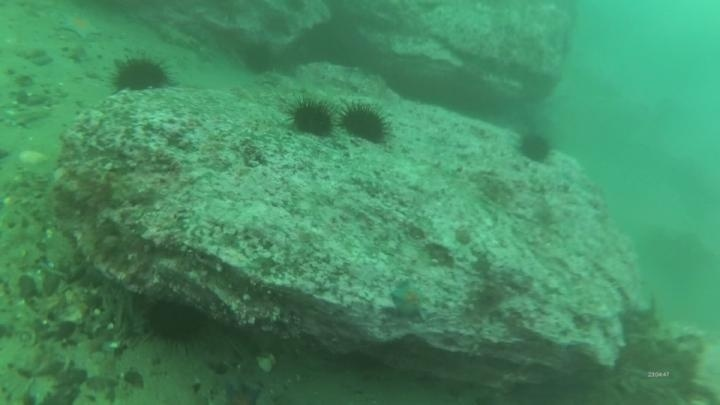echinus: (142, 293, 210, 349), (110, 53, 173, 94), (338, 100, 393, 146), (286, 97, 336, 139), (515, 130, 555, 165), (239, 40, 276, 76)
holothurian: (153, 22, 208, 53)
starfish: (388, 279, 430, 320), (56, 11, 103, 41), (221, 380, 265, 404)
